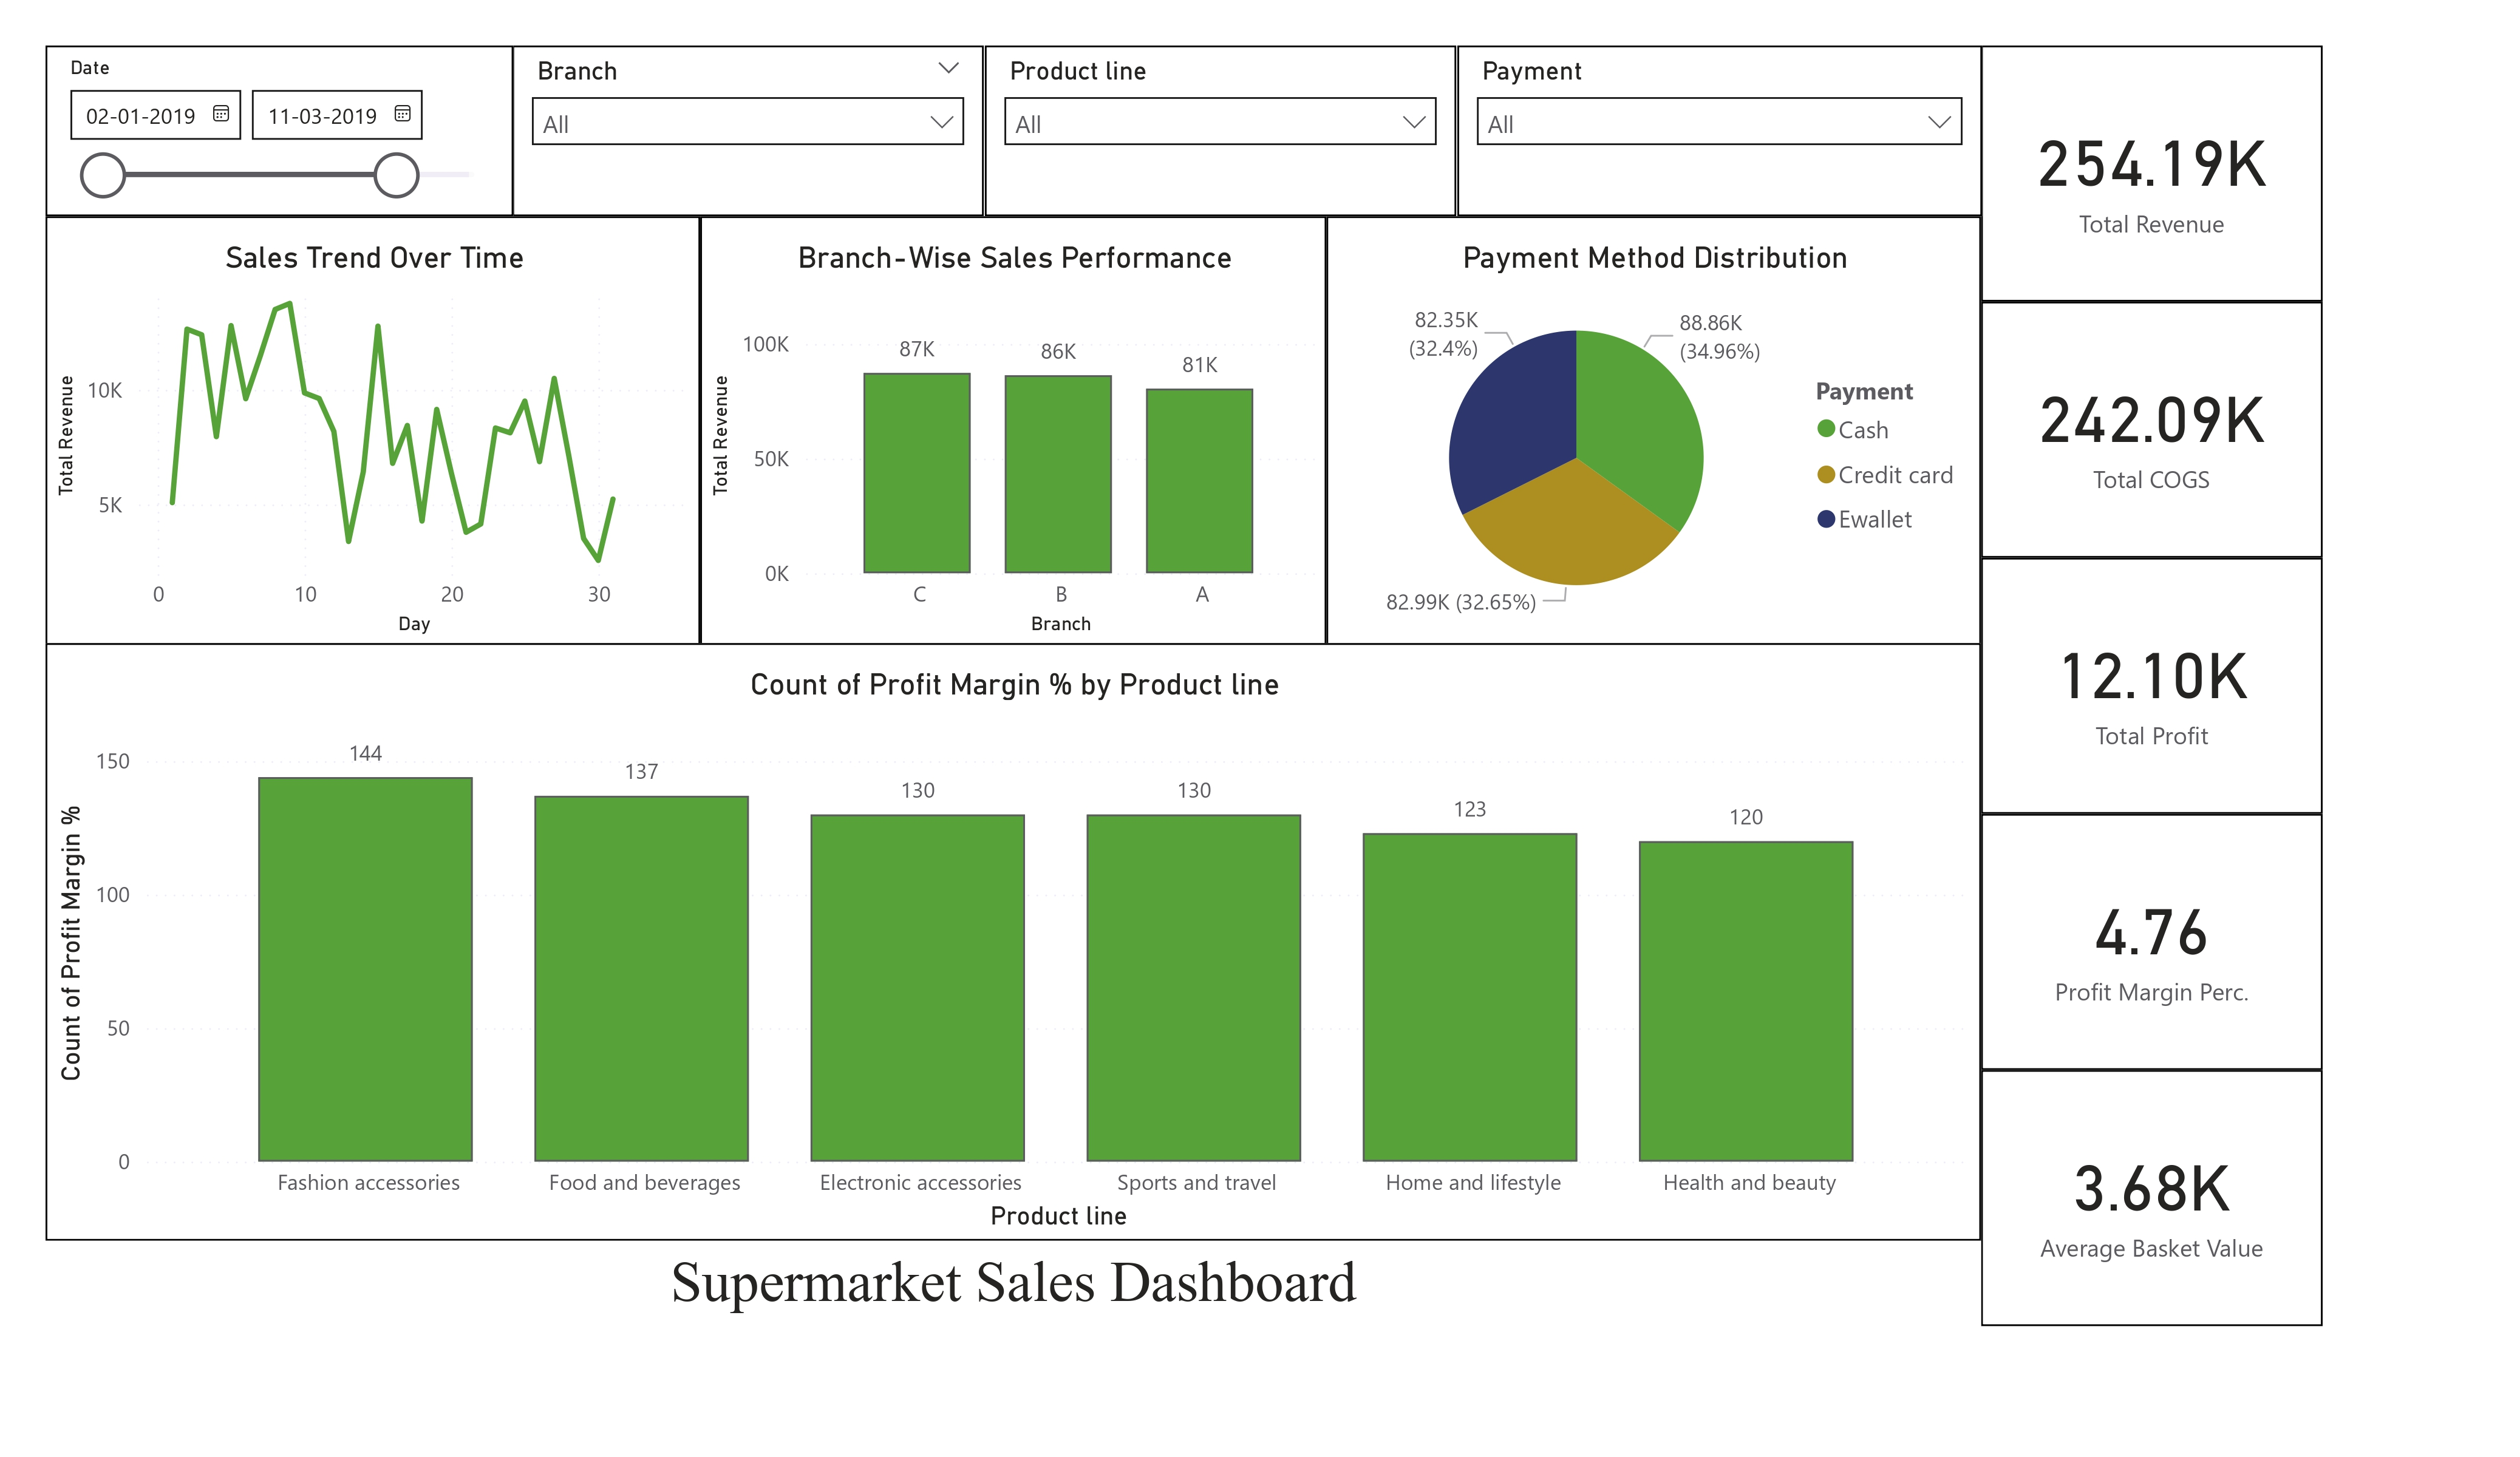

The dashboard page shown, as its layout file describes it:
{"tool":"powerbi","page":{"name":"Dashboard","canvas":[1280,720],"ordinal":0},"visuals":[{"type":"card","fields":{"Values":["supermarket_sales.Total Revenue"]},"box":[1088,0,192,144],"z":0},{"type":"card","fields":{"Values":["supermarket_sales.Total COGS"]},"box":[1088,144,192,144],"z":1000},{"type":"card","fields":{"Values":["supermarket_sales.Total Profit"]},"box":[1088,288,192,144],"z":2000},{"type":"card","fields":{"Values":["supermarket_sales.Profit Margin Perc."]},"box":[1088,432,192,144],"z":3000},{"type":"card","fields":{"Values":["supermarket_sales.Average Basket Value"]},"box":[1088,576,192,144],"z":4000},{"type":"lineChart","title":"Sales Trend Over Time","fields":{"Y":["supermarket_sales.Total Revenue"],"Category":["supermarket_sales.Day"]},"box":[0,96,368,240.7],"z":5000},{"type":"clusteredColumnChart","title":"Branch-Wise Sales Performance","fields":{"Category":["supermarket_sales.Branch"],"Y":["supermarket_sales.Total Revenue"]},"box":[368,96,352,240.7],"z":6000},{"type":"pieChart","title":"Payment Method Distribution","fields":{"Category":["supermarket_sales.Payment"],"Y":["supermarket_sales.Total Revenue"]},"box":[720,96,368,240.7],"z":7000},{"type":"slicer","fields":{"Values":["supermarket_sales.Branch"]},"box":[262.6,0,265.3,96],"z":8000},{"type":"slicer","fields":{"Values":["supermarket_sales.Product line"]},"box":[527.9,0,265.3,96],"z":9000},{"type":"clusteredColumnChart","fields":{"Category":["supermarket_sales.Product line"],"Y":["CountNonNull(supermarket_sales.Profit Margin %)"]},"box":[0,336,1088,336],"z":10000},{"type":"slicer","fields":{"Values":["supermarket_sales.Payment"]},"box":[793.2,0,294.8,96],"z":11000},{"type":"slicer","fields":{"Values":["supermarket_sales.Date"]},"box":[0,0,262.6,96],"z":12000},{"type":"textbox","box":[0,672,1088,48],"z":12001}]}

Visuals, with their boxes on the page's 1280x720 design canvas (x1, y1, x2, y2). These are canvas units, not pixel positions in the 2520x1457 screenshot, which may show the page scaled, cropped or inside an application window:
card - supermarket_sales.Total Revenue: 1088 0 1280 144
card - supermarket_sales.Total COGS: 1088 144 1280 288
card - supermarket_sales.Total Profit: 1088 288 1280 432
card - supermarket_sales.Profit Margin Perc.: 1088 432 1280 576
card - supermarket_sales.Average Basket Value: 1088 576 1280 720
"Sales Trend Over Time" lineChart: 0 96 368 337
"Branch-Wise Sales Performance" clusteredColumnChart: 368 96 720 337
"Payment Method Distribution" pieChart: 720 96 1088 337
slicer - supermarket_sales.Branch: 263 0 528 96
slicer - supermarket_sales.Product line: 528 0 793 96
clusteredColumnChart - supermarket_sales.Product line x CountNonNull(supermarket_sales.Profit Margin %): 0 336 1088 672
slicer - supermarket_sales.Payment: 793 0 1088 96
slicer - supermarket_sales.Date: 0 0 263 96
textbox: 0 672 1088 720
